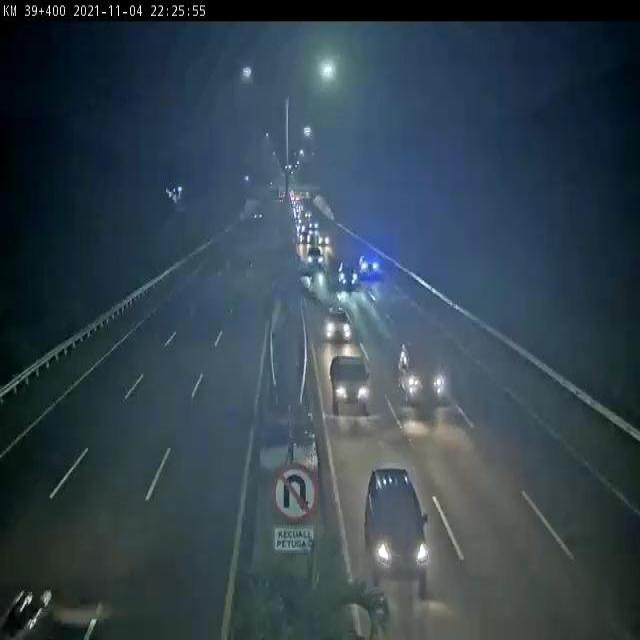car: (361, 467, 441, 600), (0, 553, 73, 640), (396, 339, 453, 413), (326, 352, 375, 421), (319, 304, 358, 343), (353, 249, 386, 280), (336, 260, 364, 296), (305, 242, 324, 270)
